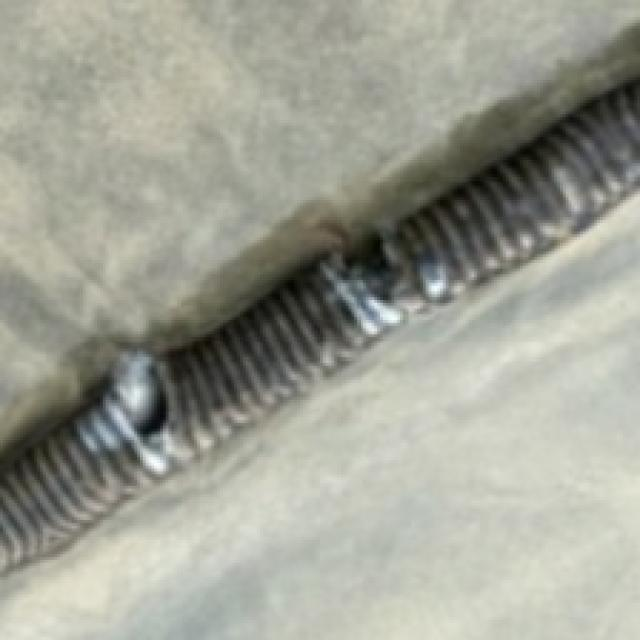king cobra: (3, 194, 637, 637), (0, 0, 637, 411)
